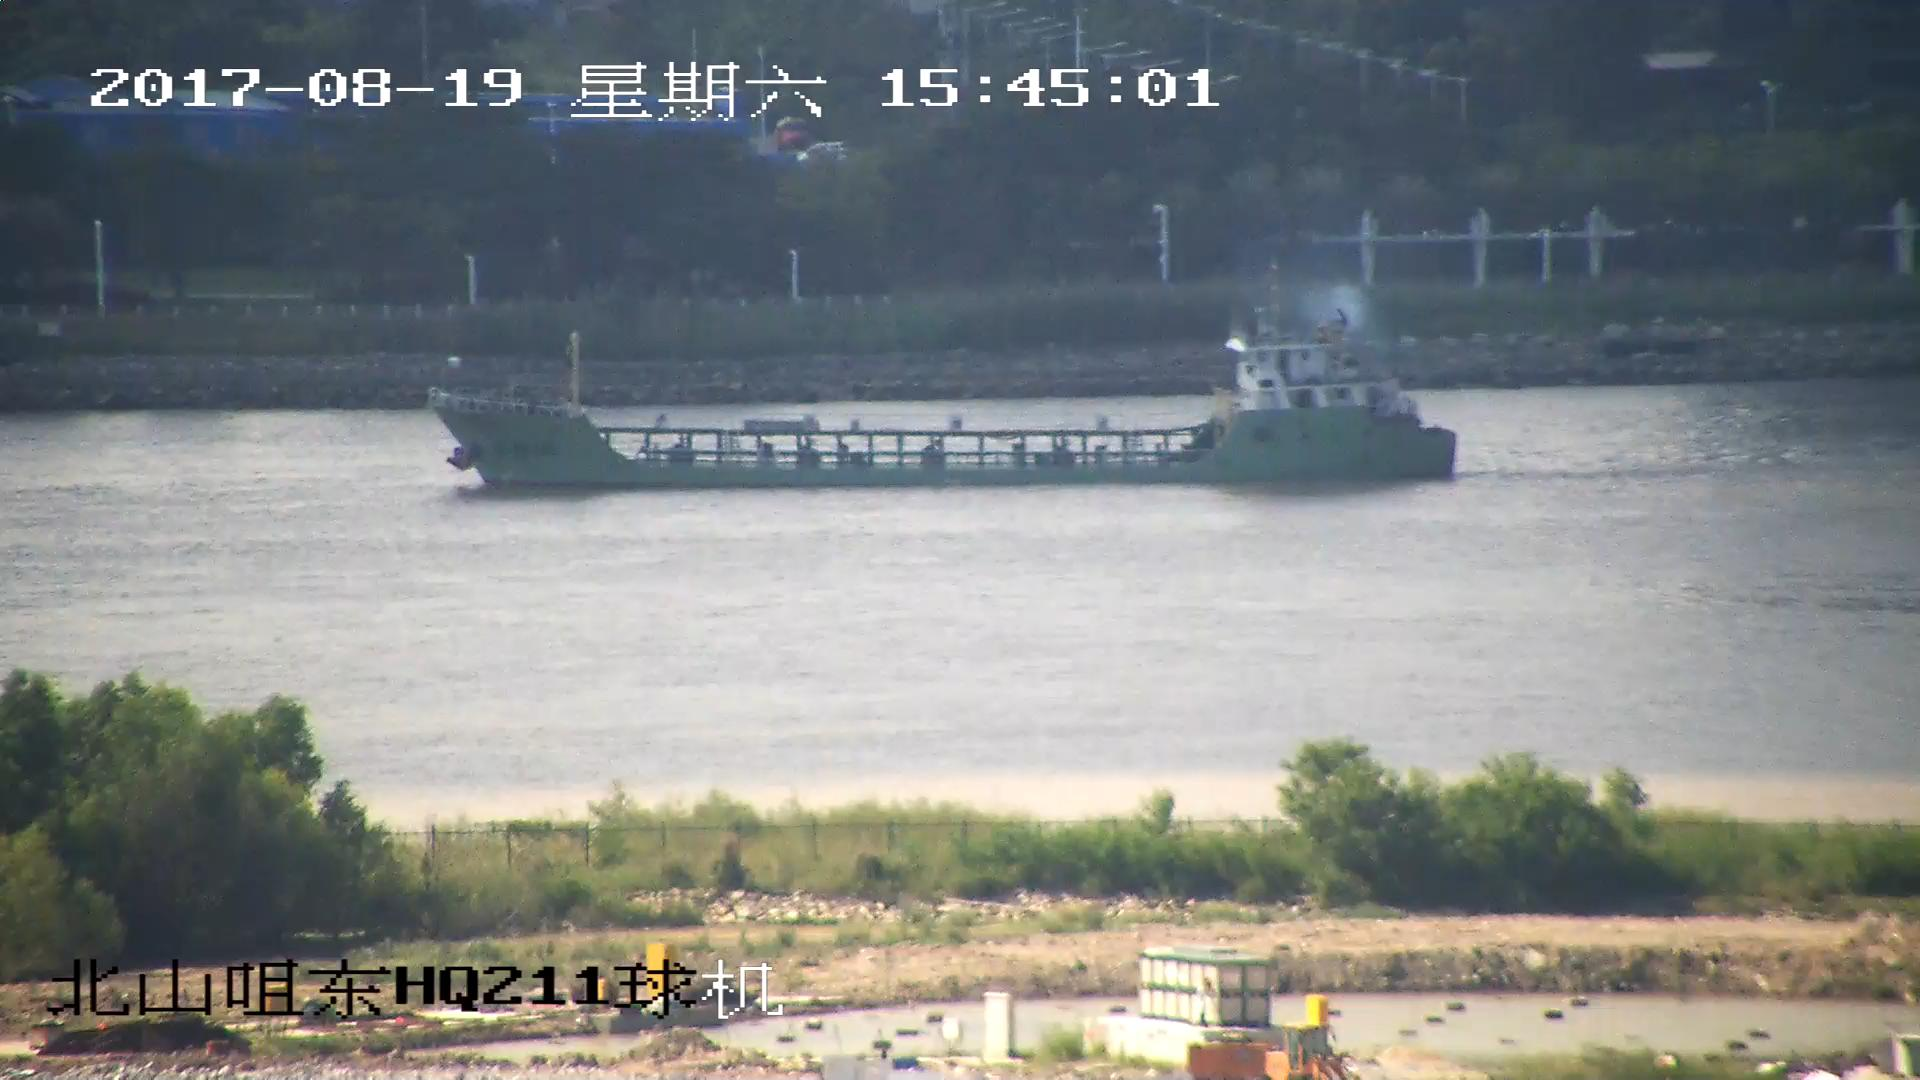general cargo ship: (429, 269, 1452, 485)
